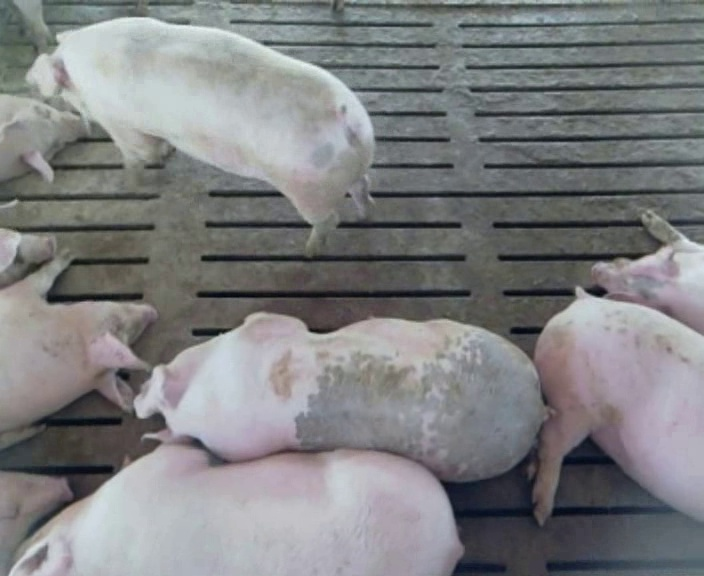pig: (27, 18, 373, 255), (134, 313, 545, 481), (10, 444, 462, 574), (524, 287, 703, 524), (0, 255, 156, 433), (592, 210, 703, 333)
